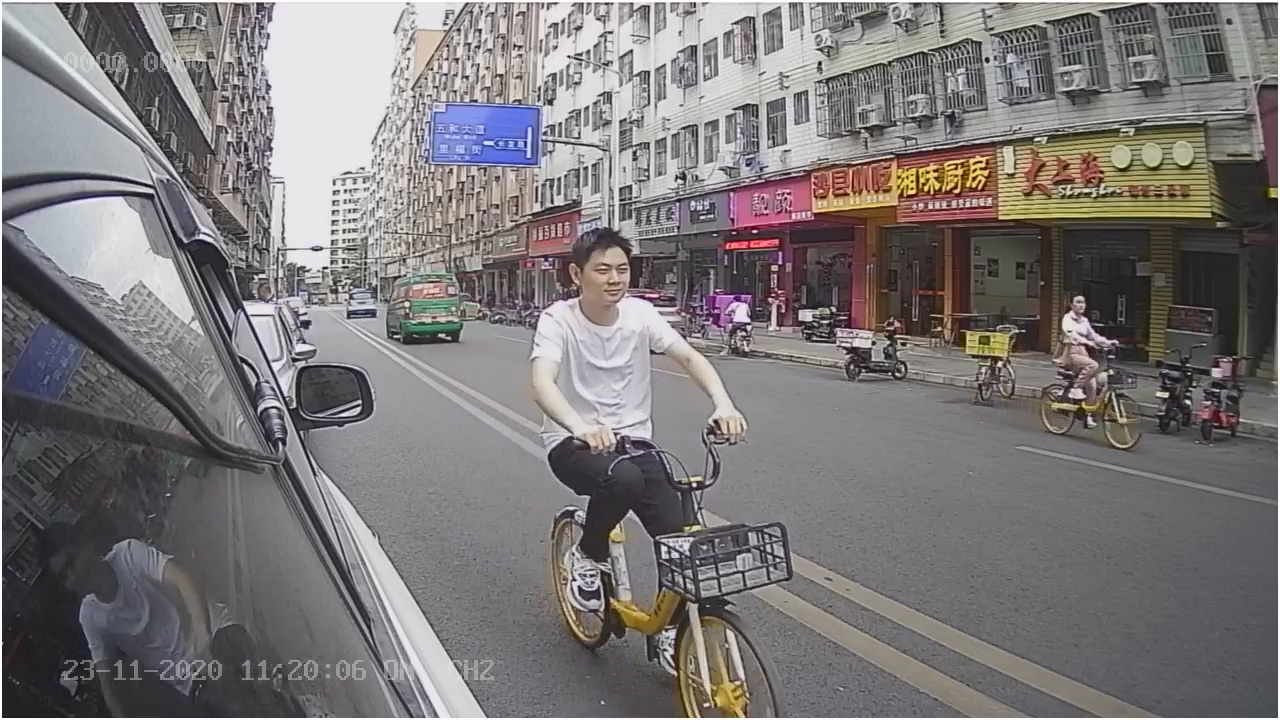person: (521, 220, 750, 446)
